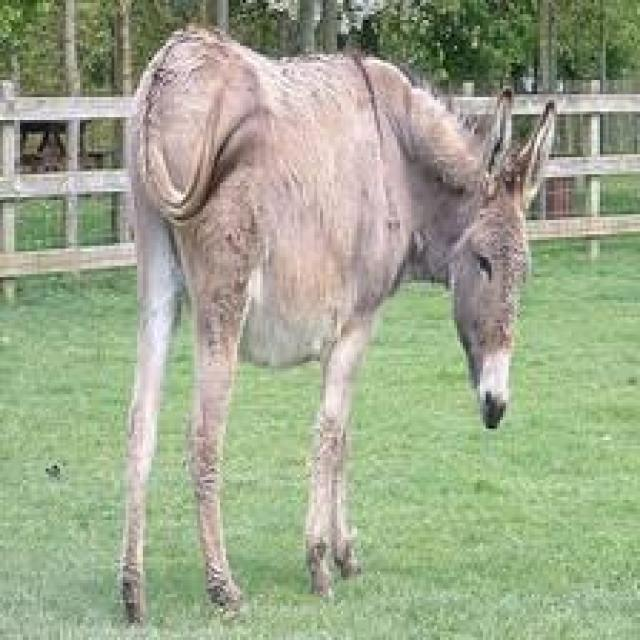Donkey: (114, 20, 557, 626)
